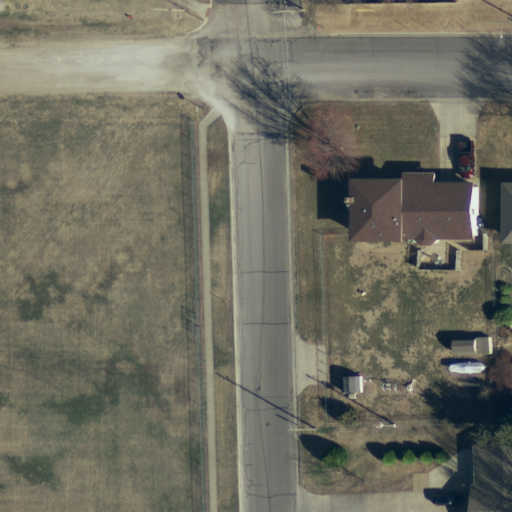DT: (284, 417, 320, 442)
